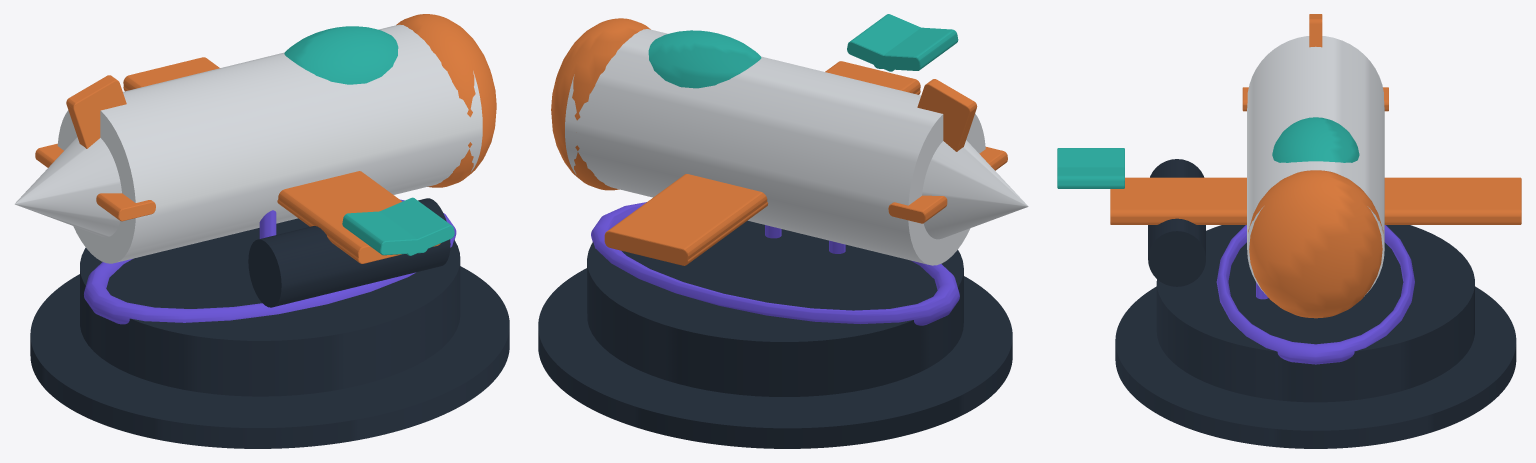
Rendered from 0560_伟大的发明图鉴_滑翔机.glb.
The picture shows the model from 3 angles, left to right: view 1: azimuth 30°, elevation 25°; view 2: azimuth 150°, elevation 25°; view 3: azimuth 270°, elevation 25°; orthographic projection. The views are drawn at different scales.
Parts seen in each view (by area): view 1: card_0560; view 2: card_0560; view 3: card_0560.
Part boxes in pixels (<box>): card_0560: <box>14,14,509,448</box>; card_0560: <box>538,14,1028,448</box>; card_0560: <box>1057,14,1521,448</box>.
Size of the model in its own units: 1.58 by 1 by 1.54.
